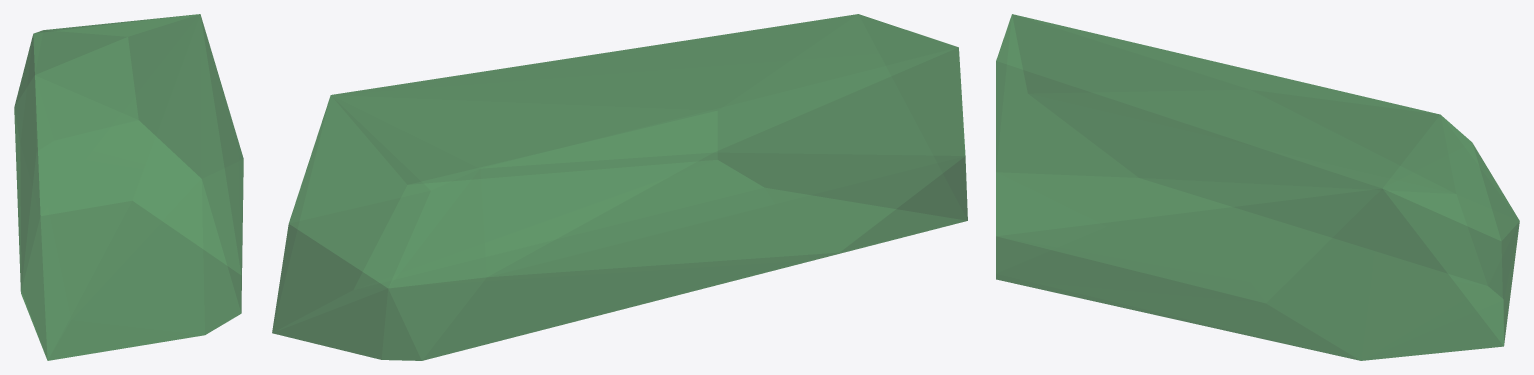
The picture shows the model from 3 angles, left to right: view 1: azimuth 30°, elevation 25°; view 2: azimuth 150°, elevation 25°; view 3: azimuth 270°, elevation 25°; orthographic projection. The views are drawn at different scales.
Visible parts, largest first — view 1: Shape_IndexedFaceSet.003_Shape_IndexedFaceSet.6266; view 2: Shape_IndexedFaceSet.003_Shape_IndexedFaceSet.6266; view 3: Shape_IndexedFaceSet.003_Shape_IndexedFaceSet.6266.
Part boxes in pixels (box(x1,y1,x2,y2)): Shape_IndexedFaceSet.003_Shape_IndexedFaceSet.6266: box(14, 14, 243, 360); Shape_IndexedFaceSet.003_Shape_IndexedFaceSet.6266: box(272, 14, 967, 360); Shape_IndexedFaceSet.003_Shape_IndexedFaceSet.6266: box(996, 14, 1519, 360).
Size of the model in its own units: 0.0657 by 0.0292 by 0.0784.
